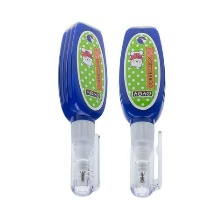correction_fluid: (57, 21, 109, 197), (118, 26, 166, 198)
